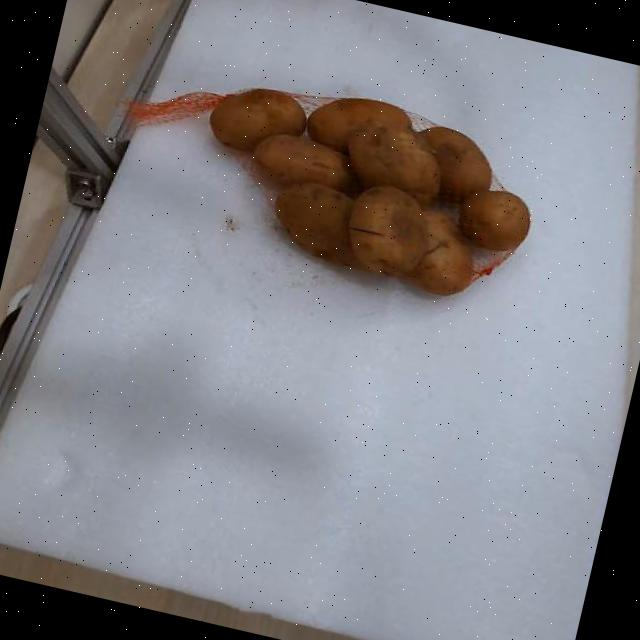potato: (347, 126, 440, 203), (347, 187, 426, 275), (275, 183, 357, 266), (253, 133, 358, 192), (209, 88, 304, 151), (404, 211, 472, 296), (306, 98, 410, 152), (419, 126, 491, 198), (459, 191, 527, 250), (404, 240, 472, 296)
